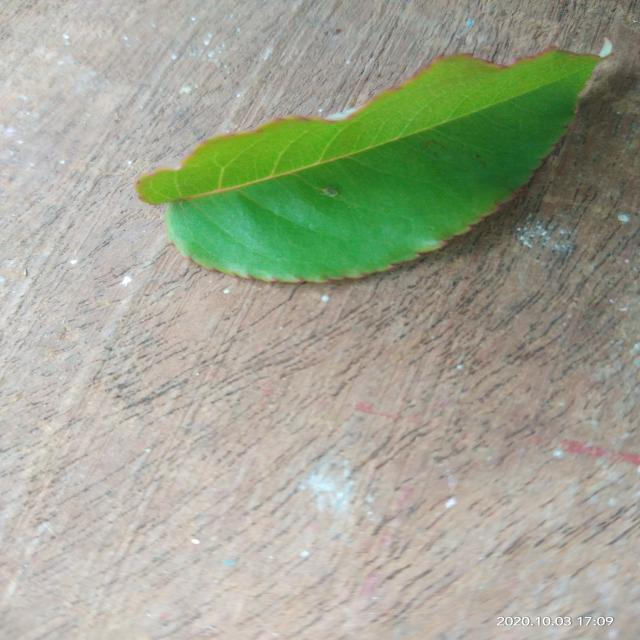rose: (137, 49, 602, 282)
